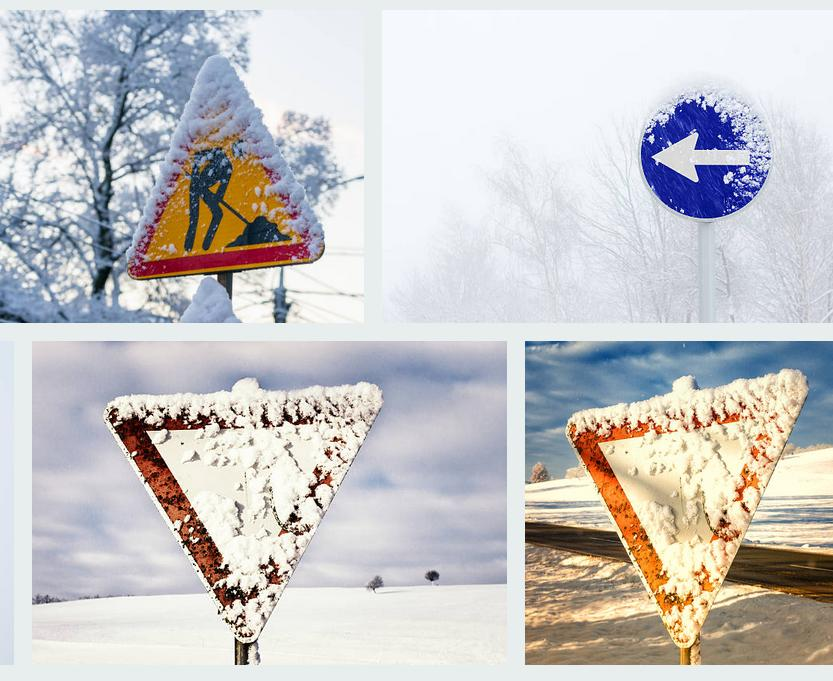obstructed_road_sign: (104, 378, 382, 643), (567, 369, 805, 663), (128, 58, 323, 279), (641, 93, 770, 222)
